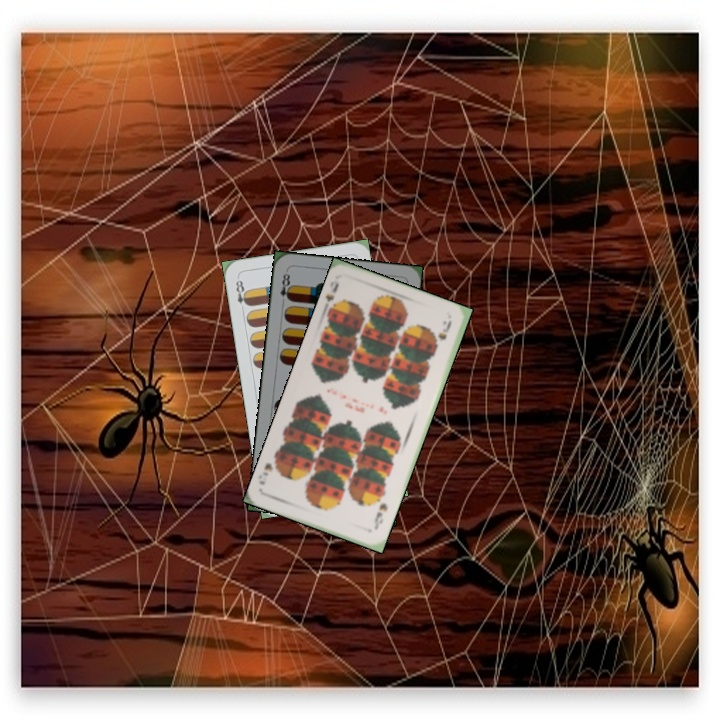E8: (276, 269, 294, 308), (232, 274, 251, 308)
S9: (319, 279, 341, 315), (370, 499, 391, 532)
